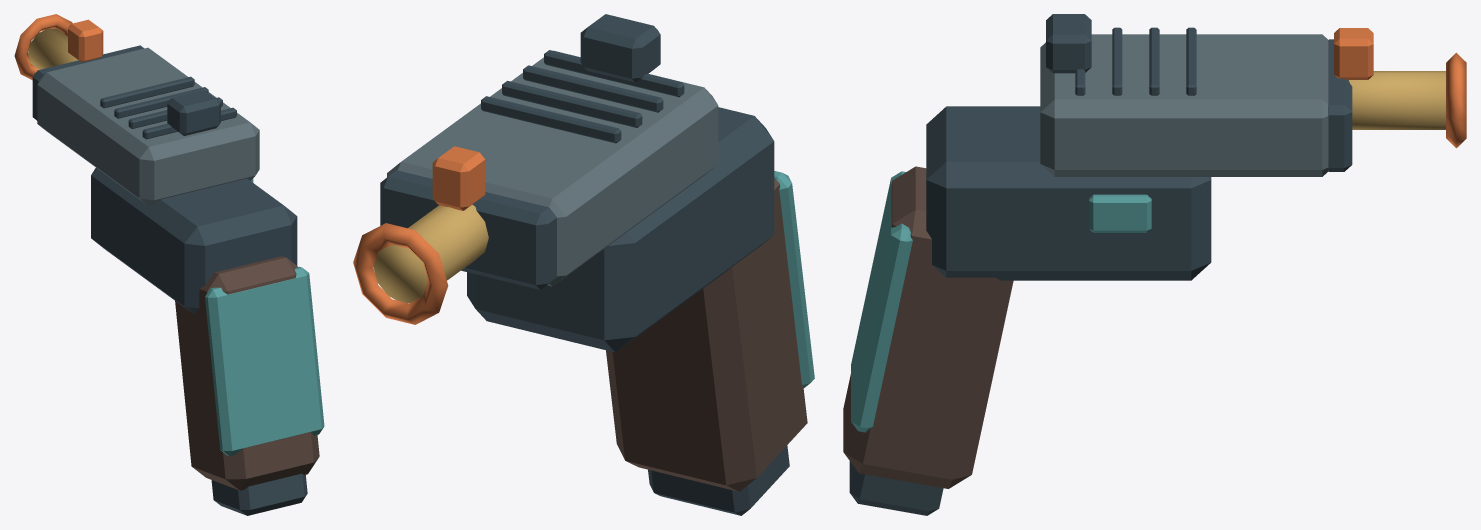
File: Pistol.glb
3 renders of one model, left to right at view 1: azimuth 30°, elevation 25°; view 2: azimuth 150°, elevation 25°; view 3: azimuth 270°, elevation 25°, orthographic. The views are drawn at different scales.
Parts seen in each view (by area): view 1: Slide, Frame, Grip spine, Grip, Magazine heel, Rear sight, Barrel, Front sight, Muzzle ring, Slide serration.003, Slide front cap, Slide serration.002 (+2 smaller); view 2: Grip, Frame, Slide, Slide front cap, Barrel, Muzzle ring, Rear sight, Magazine heel, Grip spine, Front sight, Slide serration.001, Slide serration.002 (+2 smaller); view 3: Slide, Frame, Grip, Grip spine, Barrel, Magazine heel, Rear sight, Slide front cap, Safety, Front sight, Muzzle ring, Slide serration.002 (+2 smaller).
Boxes of the visible parts, box(x1,y1,x2,y2) form: Slide: box(37, 47, 259, 205); Frame: box(91, 168, 297, 313); Grip spine: box(205, 266, 324, 456); Grip: box(175, 256, 319, 490); Magazine heel: box(211, 473, 307, 515); Rear sight: box(167, 90, 220, 135); Barrel: box(28, 28, 77, 69); Front sight: box(68, 19, 103, 61); Muzzle ring: box(14, 14, 72, 80); Slide serration.003: box(100, 76, 194, 108); Slide front cap: box(32, 45, 144, 120); Slide serration.002: box(114, 87, 208, 118); Grip: box(606, 177, 807, 491); Frame: box(467, 107, 774, 352); Slide: box(387, 50, 718, 286); Slide front cap: box(380, 170, 556, 289); Barrel: box(373, 204, 488, 302); Muzzle ring: box(353, 223, 448, 324); Rear sight: box(580, 14, 660, 82); Magazine heel: box(648, 445, 789, 515); Grip spine: box(774, 171, 814, 387); Front sight: box(432, 146, 485, 210); Slide serration.001: box(523, 65, 663, 112); Slide serration.002: box(502, 80, 642, 127); Slide: box(1040, 34, 1328, 176); Frame: box(926, 106, 1211, 280); Grip: box(843, 166, 1013, 488); Grip spine: box(851, 171, 912, 432); Barrel: box(1349, 71, 1445, 129); Magazine heel: box(849, 461, 943, 515); Rear sight: box(1046, 14, 1091, 73); Slide front cap: box(1328, 39, 1352, 171); Safety: box(1089, 194, 1151, 232); Front sight: box(1334, 28, 1373, 79); Muzzle ring: box(1446, 52, 1466, 148); Slide serration.002: box(1149, 27, 1159, 95).
Bounding box in the file's own units: 0.3425 × 0.9184 × 1.09.
